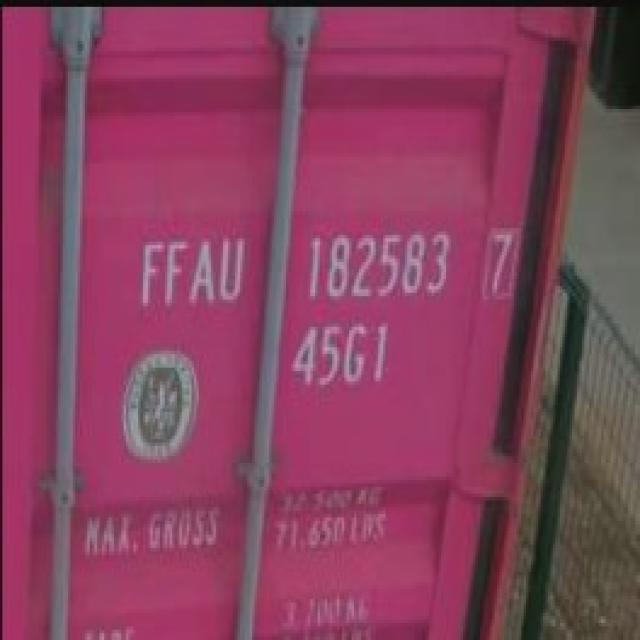dv: (474, 224, 520, 298)
owner: (131, 234, 247, 314)
serial: (298, 220, 454, 303)
size: (286, 316, 395, 388)
